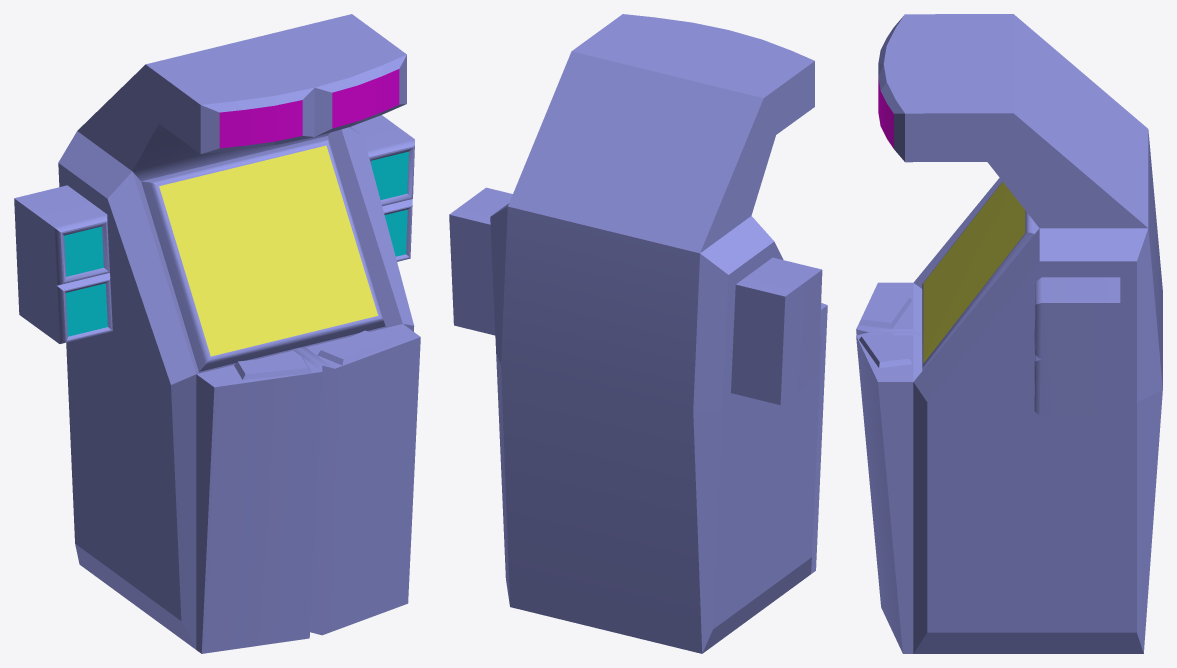
Rendered from arcade.fbx.
3 renders of one model, left to right at view 1: azimuth 30°, elevation 25°; view 2: azimuth 150°, elevation 25°; view 3: azimuth 270°, elevation 25°, orthographic. The views are drawn at different scales.
Visible parts, largest first — view 1: arcade; view 2: arcade; view 3: arcade.
Boxes of the visible parts, x1=… form: arcade: x1=14, y1=14, x2=420, y2=653; arcade: x1=449, y1=14, x2=827, y2=653; arcade: x1=856, y1=14, x2=1162, y2=653.
Size of the model in its own units: 9.51 by 13.81 by 7.1.
